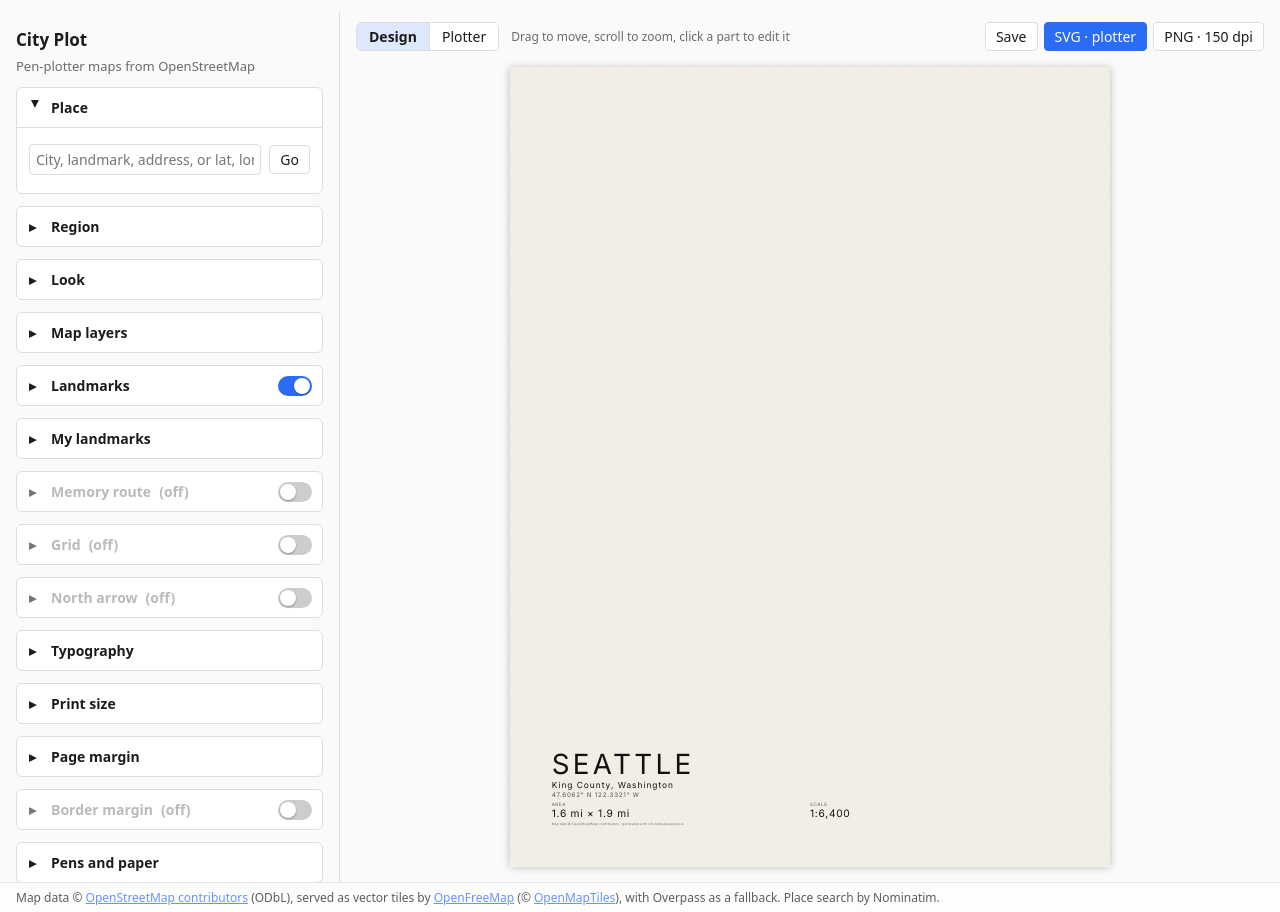
Test: the Look group › offers every look as a card with a sketch, applies one, and undoes it
Click the button "▸ Look".
click(68, 280)  # box [17, 260, 312, 299]
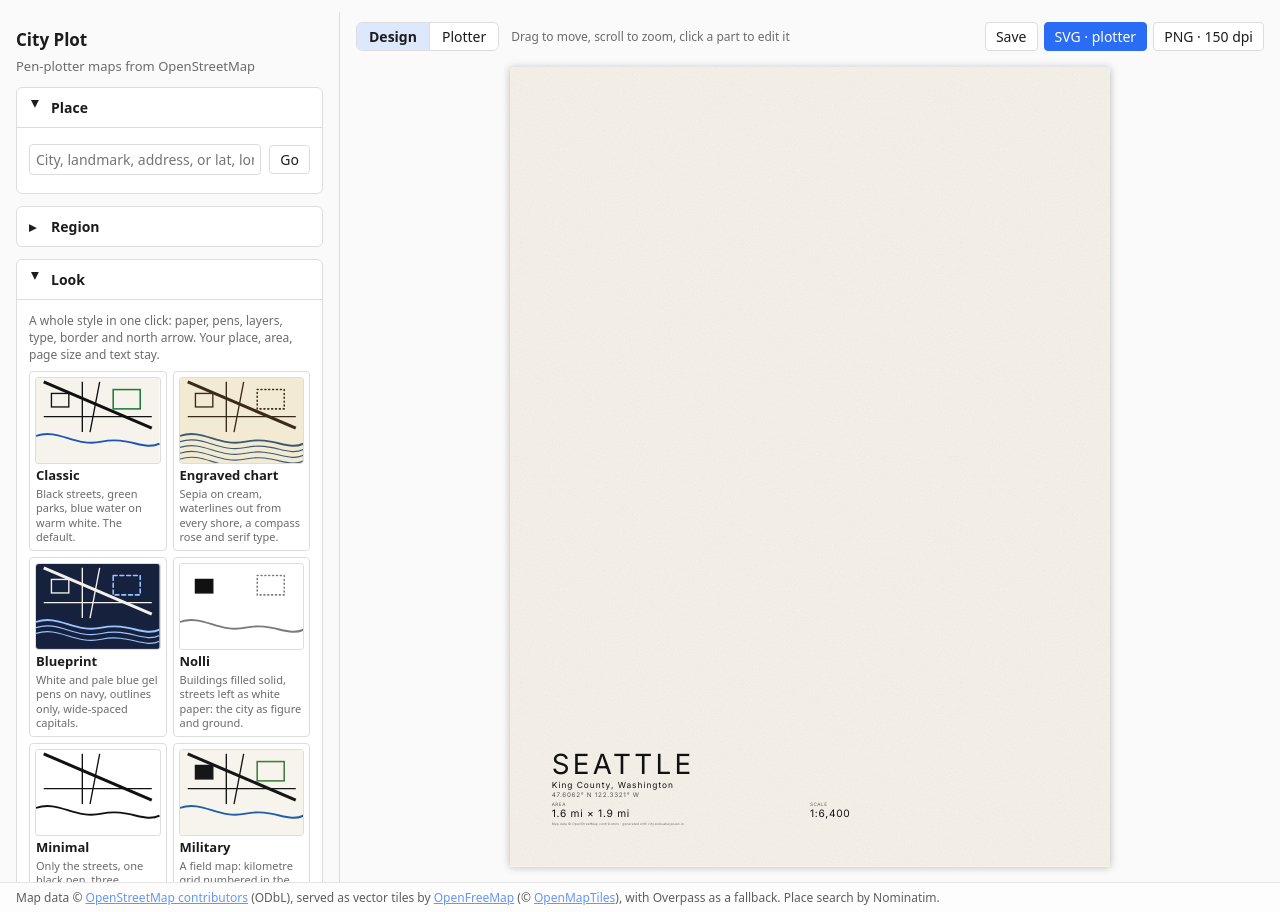
Check: the 2nd icon is shown, box [36, 378, 160, 463]
Check: the 3rd icon is shown, box [180, 378, 303, 463]
Check: the 4th icon is shown, box [36, 564, 160, 649]
Click the button with class "look" that starts with "Blueprint".
click(98, 647)  # box [29, 557, 166, 737]
(page scrolled)
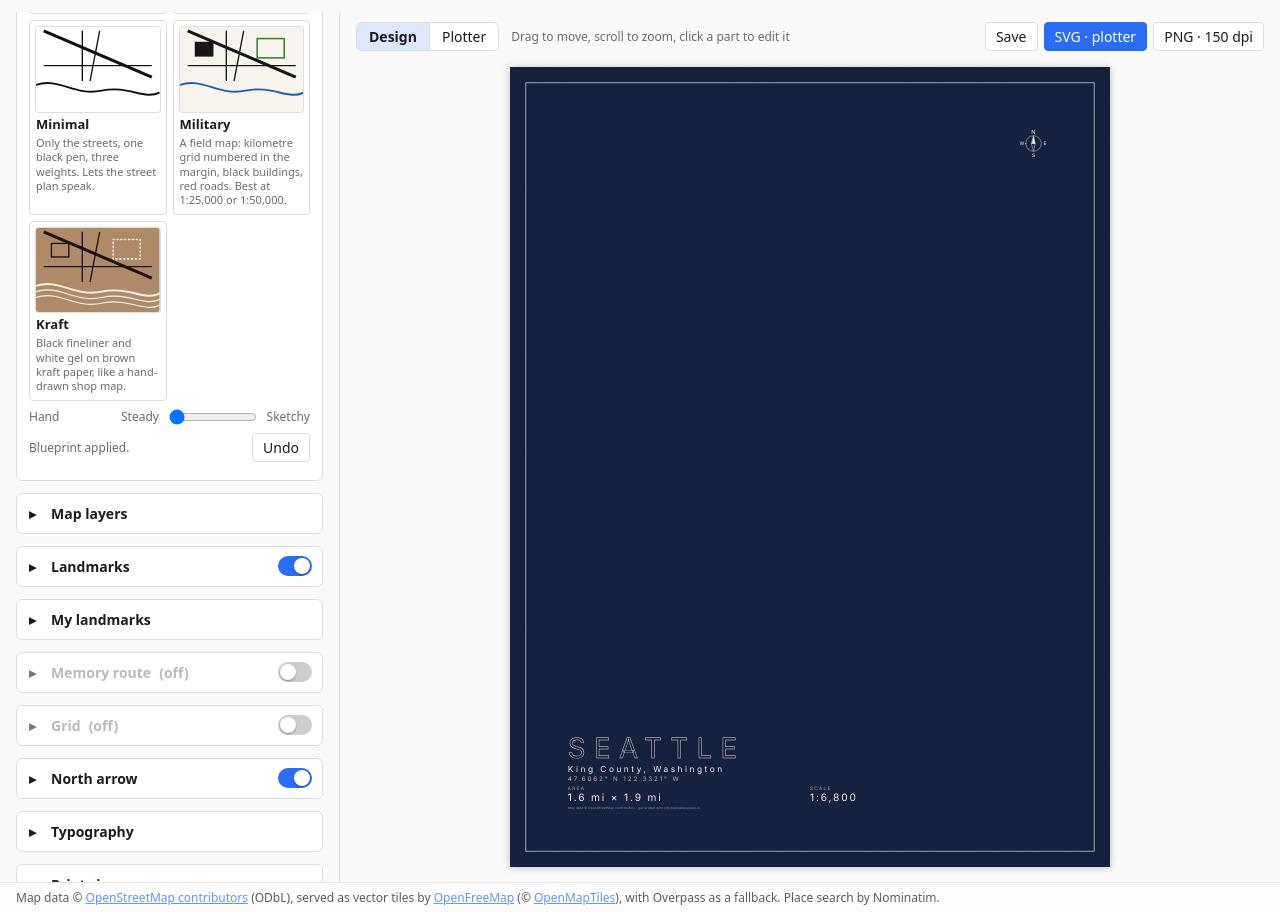
Check: the text "Blueprint applied." is shown, box [29, 439, 129, 456]
Click the button "Undo".
click(281, 447)  # box [252, 433, 310, 462]
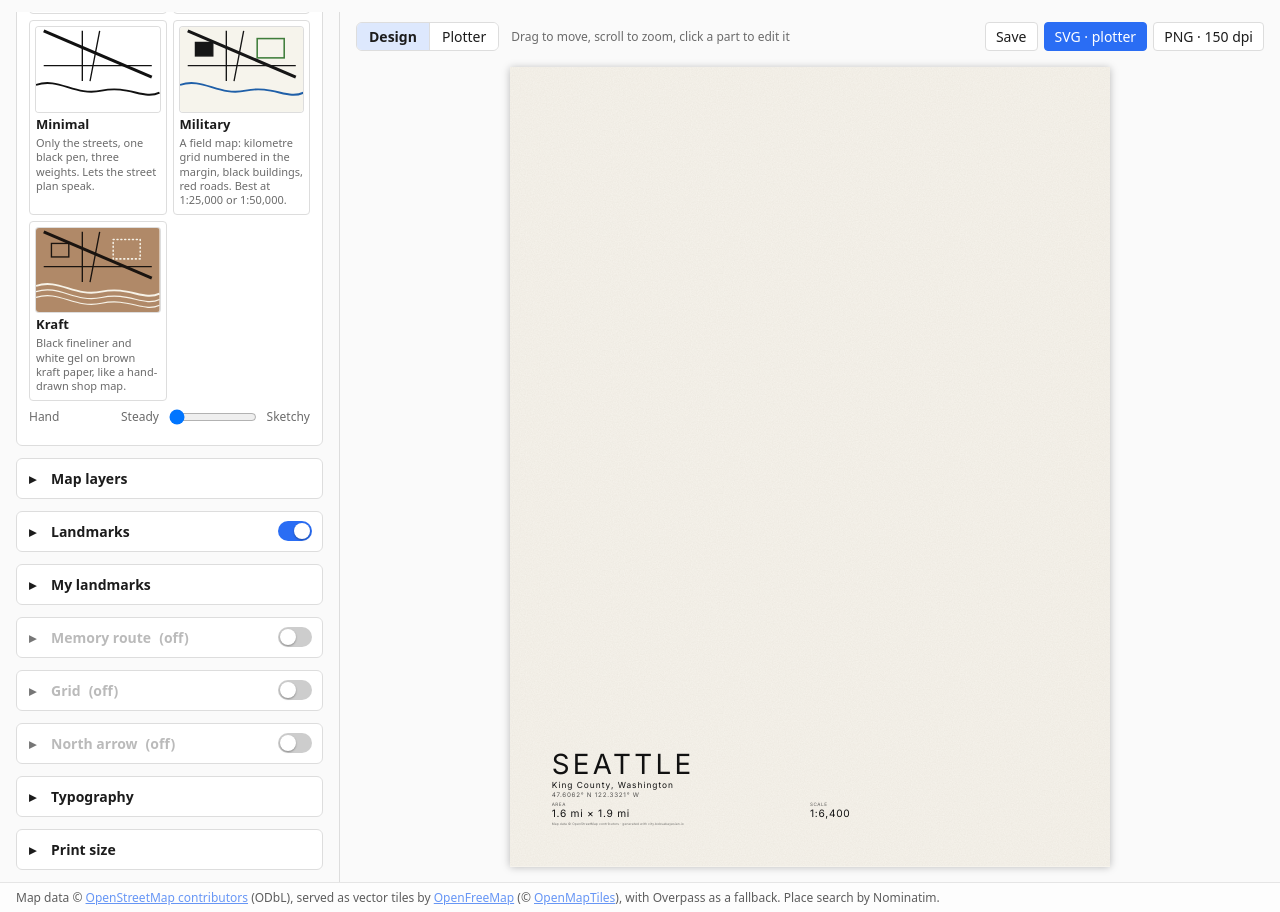
Check: the text "Blueprint applied." is gone
